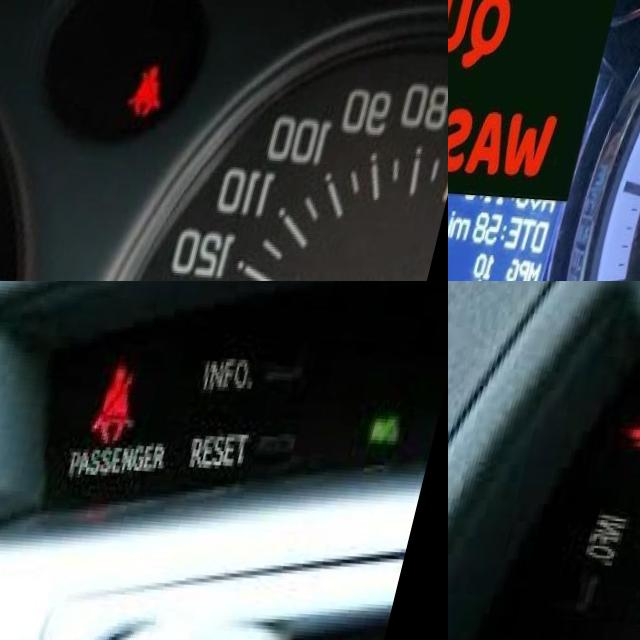Seat Belt: (100, 357, 161, 444), (140, 60, 185, 113)
